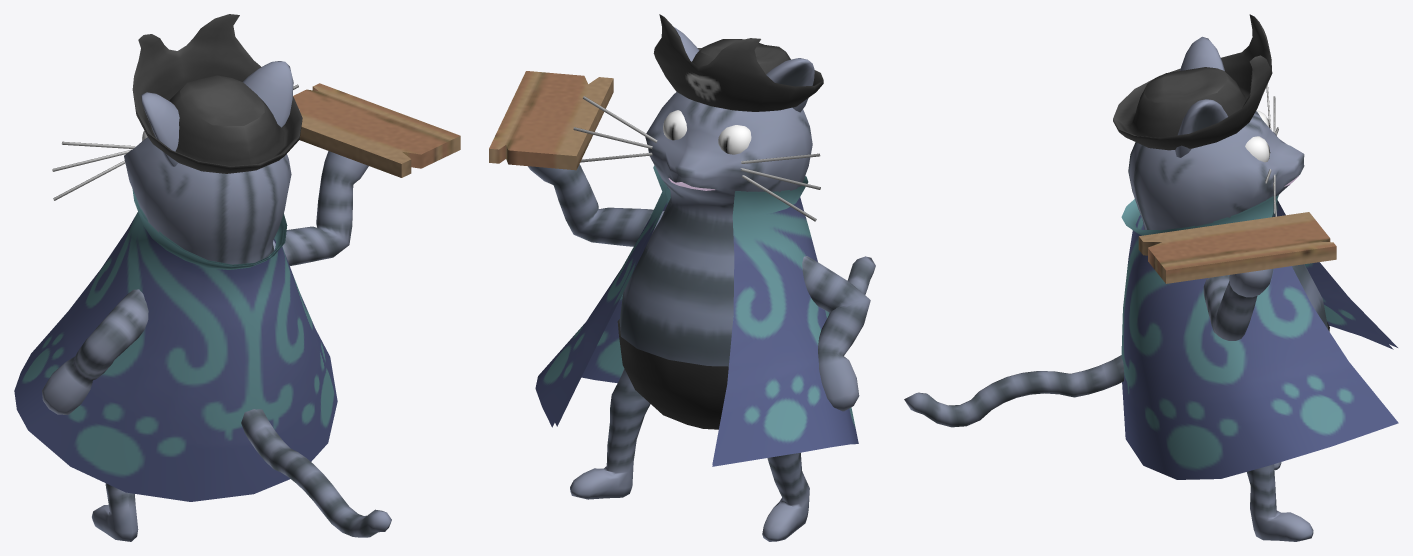
File: neko_idle_c_08.fbx
3 views of the same model, side by side, from view 1: azimuth 30°, elevation 25°; view 2: azimuth 150°, elevation 25°; view 3: azimuth 270°, elevation 25° (orthographic). The views are drawn at different scales.
Visible parts, largest first — view 1: I_c_08; view 2: I_c_08; view 3: I_c_08.
Part boxes in pixels (left/top/right/bottom): I_c_08: left=14, top=14, right=460, bottom=541; I_c_08: left=489, top=14, right=875, bottom=541; I_c_08: left=904, top=14, right=1398, bottom=541.
Size of the model in its own units: 1.57 by 1.94 by 1.86.
1 material, 1 textured.
